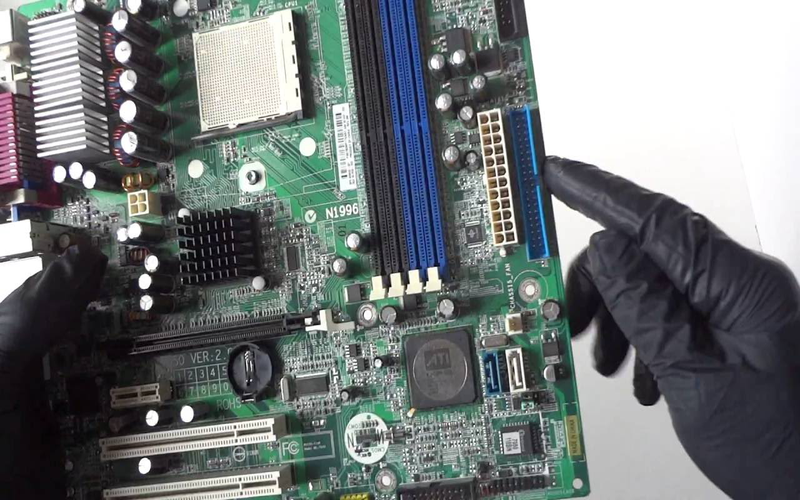Cirtuit-Board: (0, 0, 604, 498)
